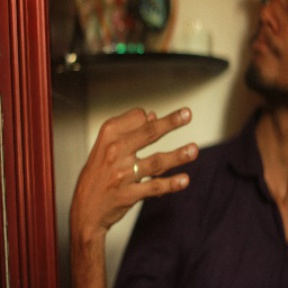K: (76, 102, 198, 214)
